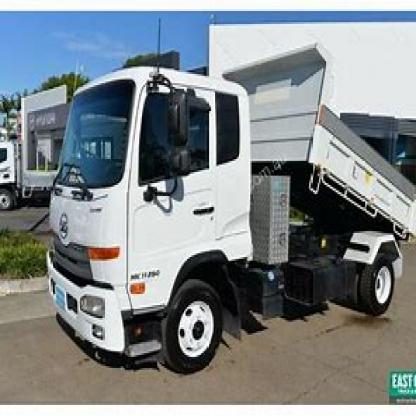dump_truck: (39, 33, 414, 372)
